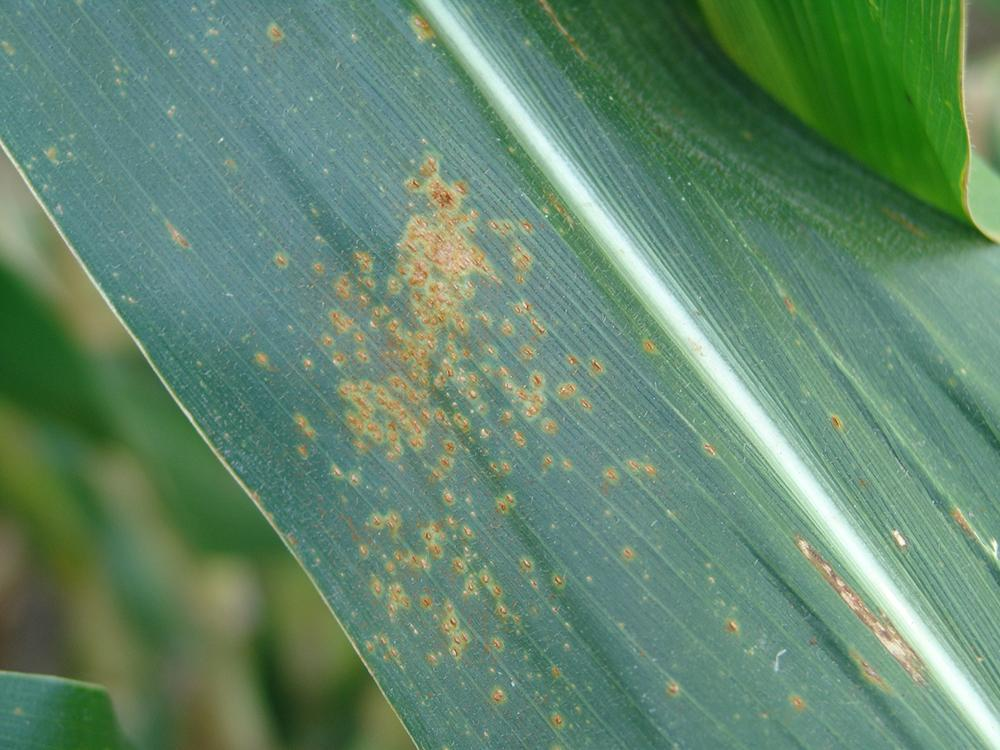Corn_Common_Rust: (251, 156, 535, 703), (792, 540, 949, 680), (939, 4, 1000, 248), (535, 320, 611, 437), (514, 0, 602, 70), (538, 659, 593, 747), (536, 190, 590, 259), (691, 599, 775, 641), (881, 199, 939, 247), (176, 0, 212, 66), (145, 213, 196, 259), (597, 451, 660, 487), (941, 504, 1000, 541), (656, 670, 708, 710), (771, 286, 813, 335), (22, 145, 73, 181), (538, 560, 574, 608), (402, 9, 436, 55), (615, 535, 652, 575), (539, 447, 582, 481), (255, 21, 297, 52), (815, 416, 869, 440), (635, 333, 675, 363), (784, 692, 818, 725), (695, 438, 732, 462), (0, 27, 16, 61)
